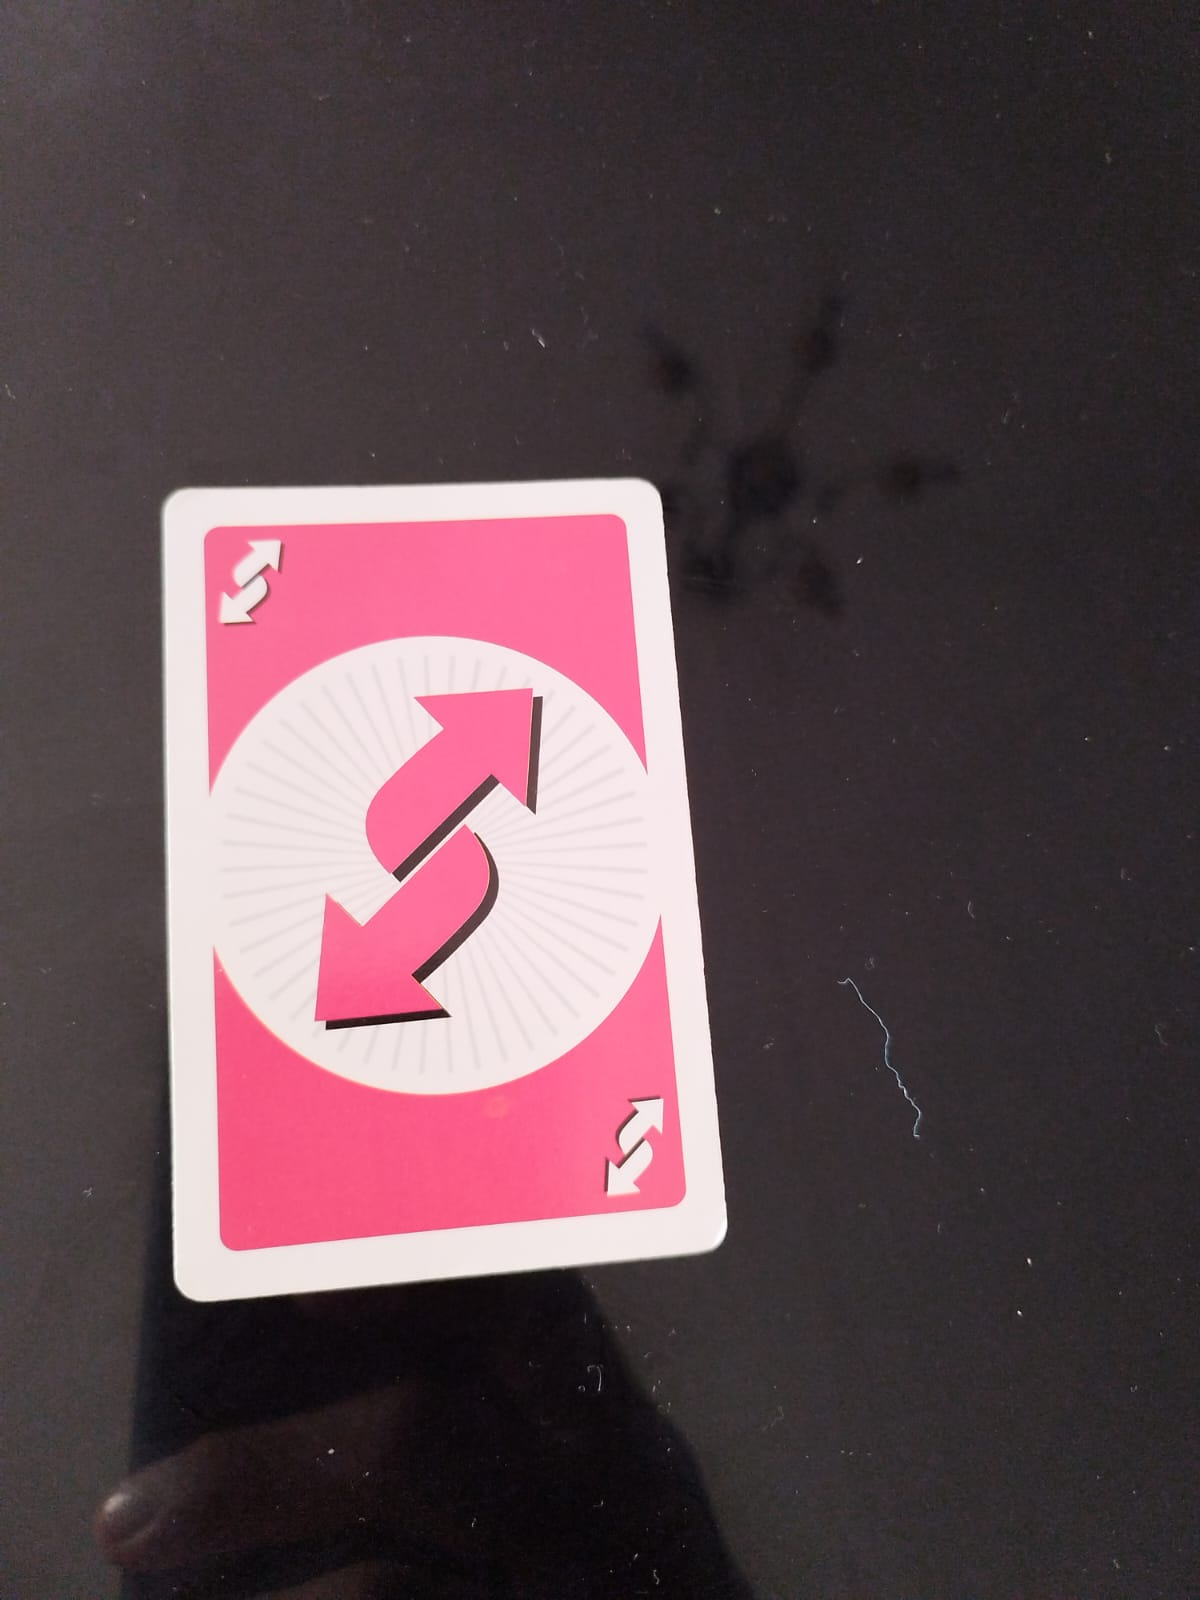8_yellow: (287, 673, 580, 1044), (582, 1097, 674, 1202), (217, 533, 300, 634)
